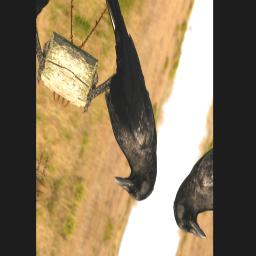Crow: (59, 0, 196, 209)
